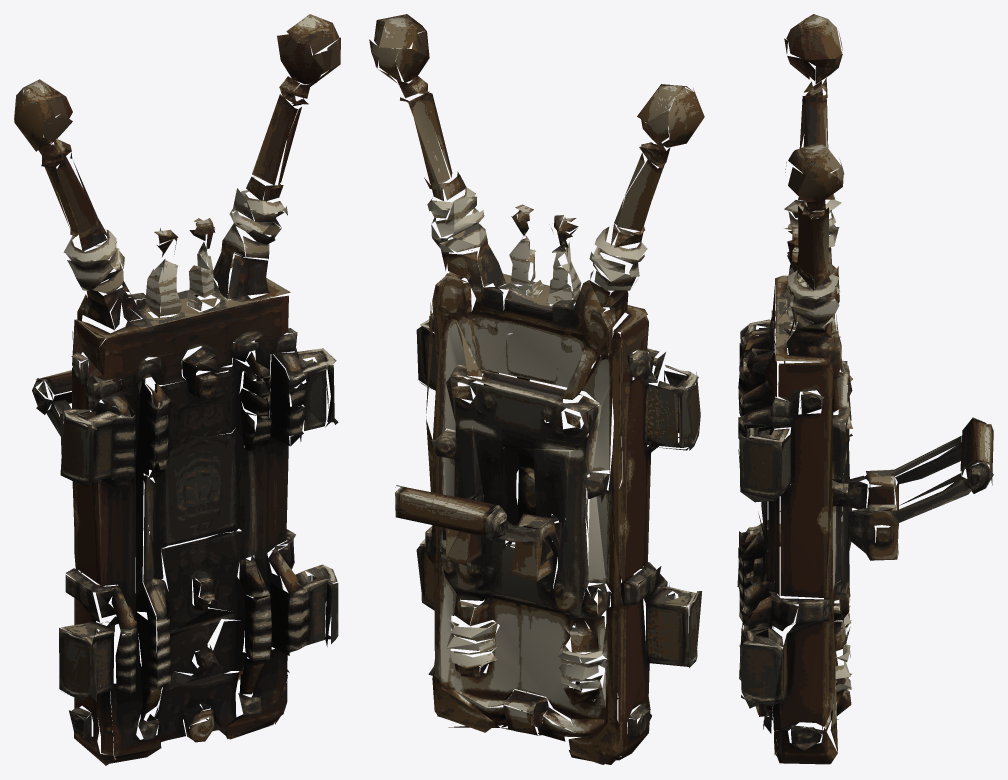
The model's file is mo_arcrelay.glb.
The picture shows the model from 3 angles, left to right: view 1: azimuth 30°, elevation 25°; view 2: azimuth 150°, elevation 25°; view 3: azimuth 270°, elevation 25°; orthographic projection. The views are drawn at different scales.
Parts seen in each view (by area): view 1: mo_arcrelay; view 2: mo_arcrelay; view 3: mo_arcrelay.
Part boxes in pixels (<box>): mo_arcrelay: <box>14,14,340,765</box>; mo_arcrelay: <box>369,14,704,764</box>; mo_arcrelay: <box>737,14,993,764</box>.
Bounding box in the file's own units: 0.0989 × 0.2 × 0.0724.
Materials: 1 (1 with a texture image).
